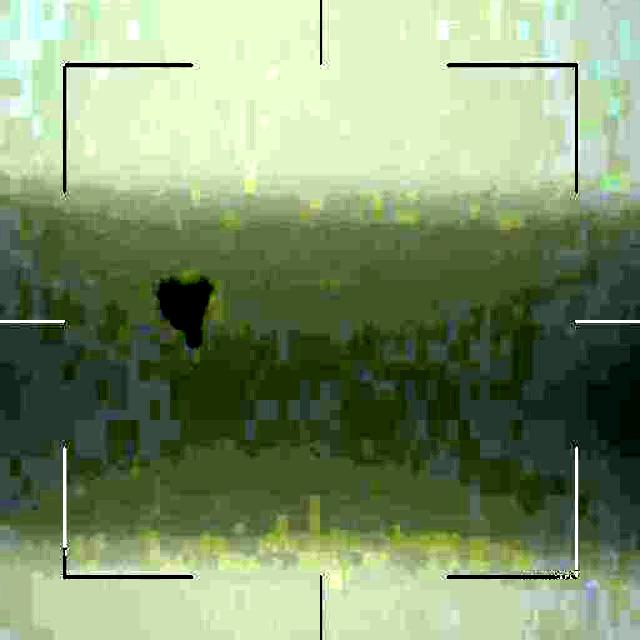bird: (150, 276, 224, 354)
